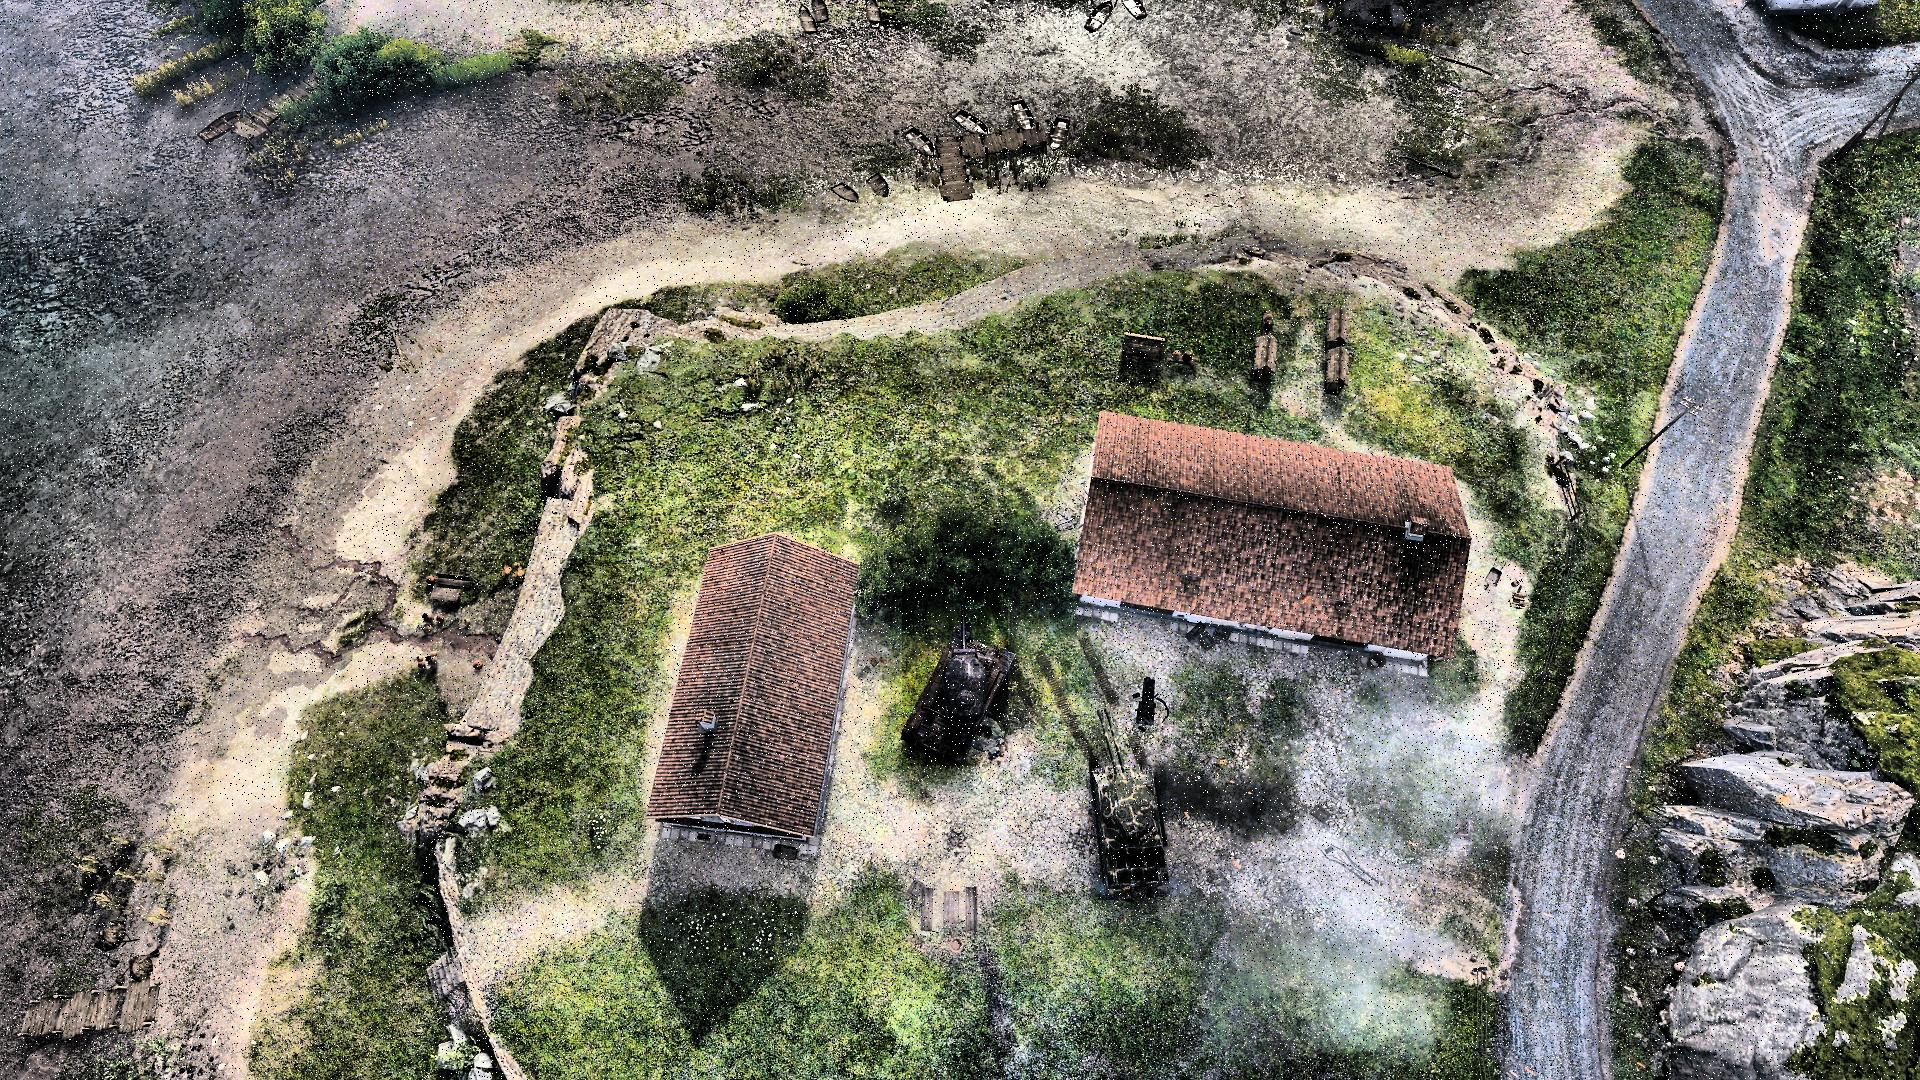military-vehicle: (902, 589, 1009, 766), (1091, 708, 1167, 901)
